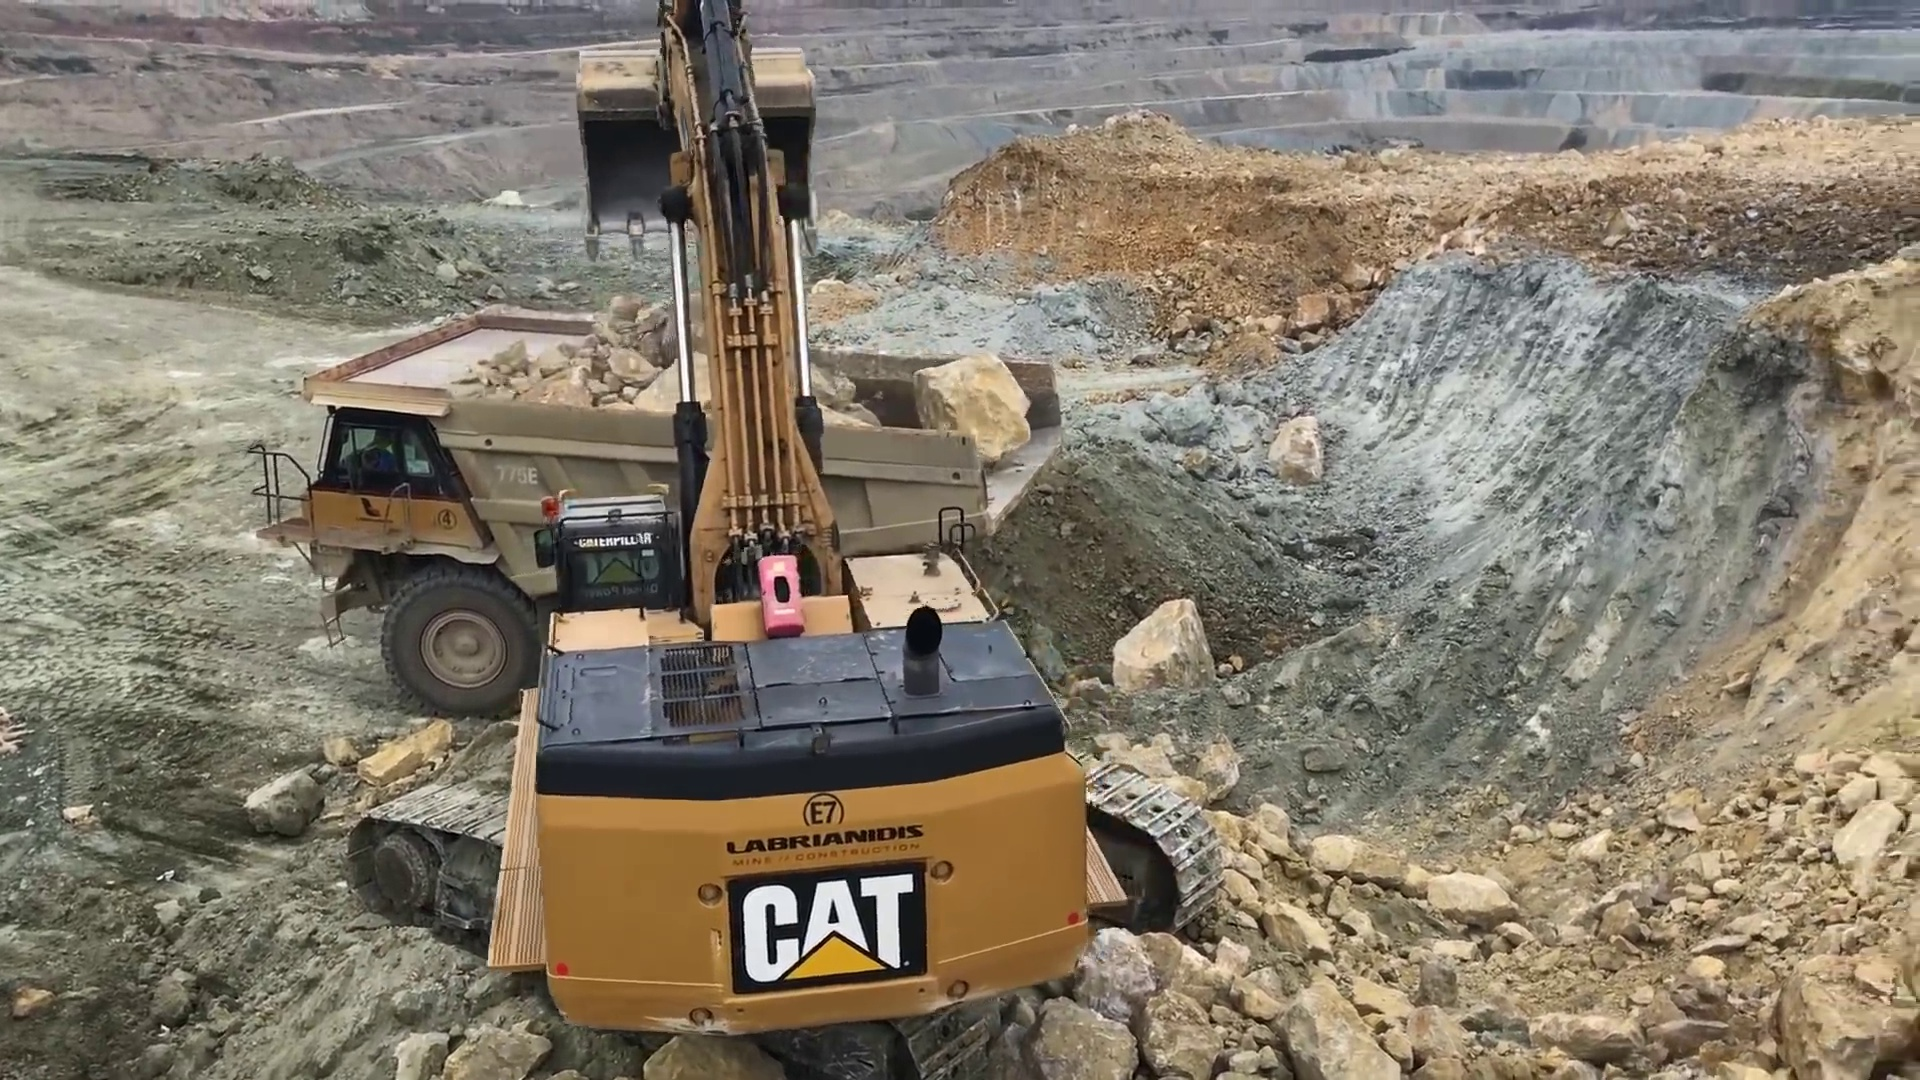dumper: (286, 297, 1065, 702)
excavator: (343, 5, 1222, 1080)
